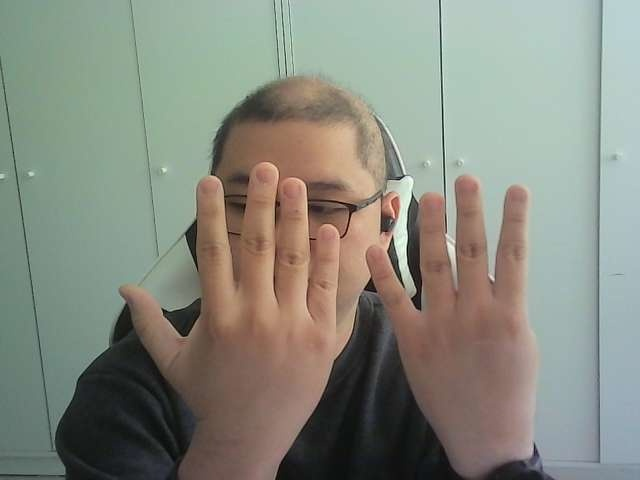Nine: (118, 162, 542, 417)
